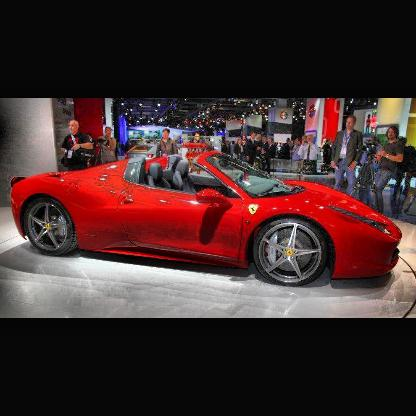Ferrari 458 Italia Convertible 2012: (11, 152, 403, 287)
